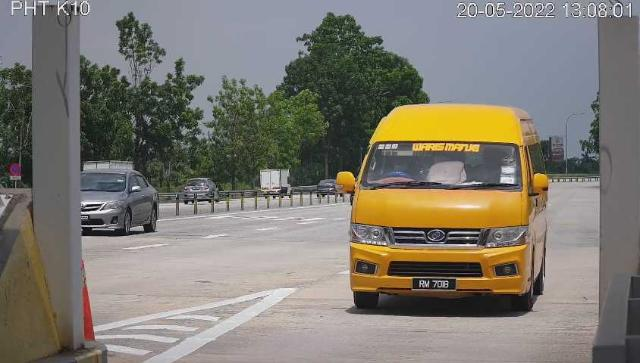License_Plate: (412, 277, 459, 296)
van: (351, 105, 549, 314)
